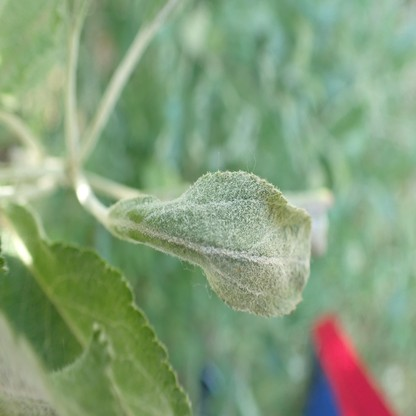powdery_mildew: (109, 168, 312, 317), (1, 313, 121, 416)
